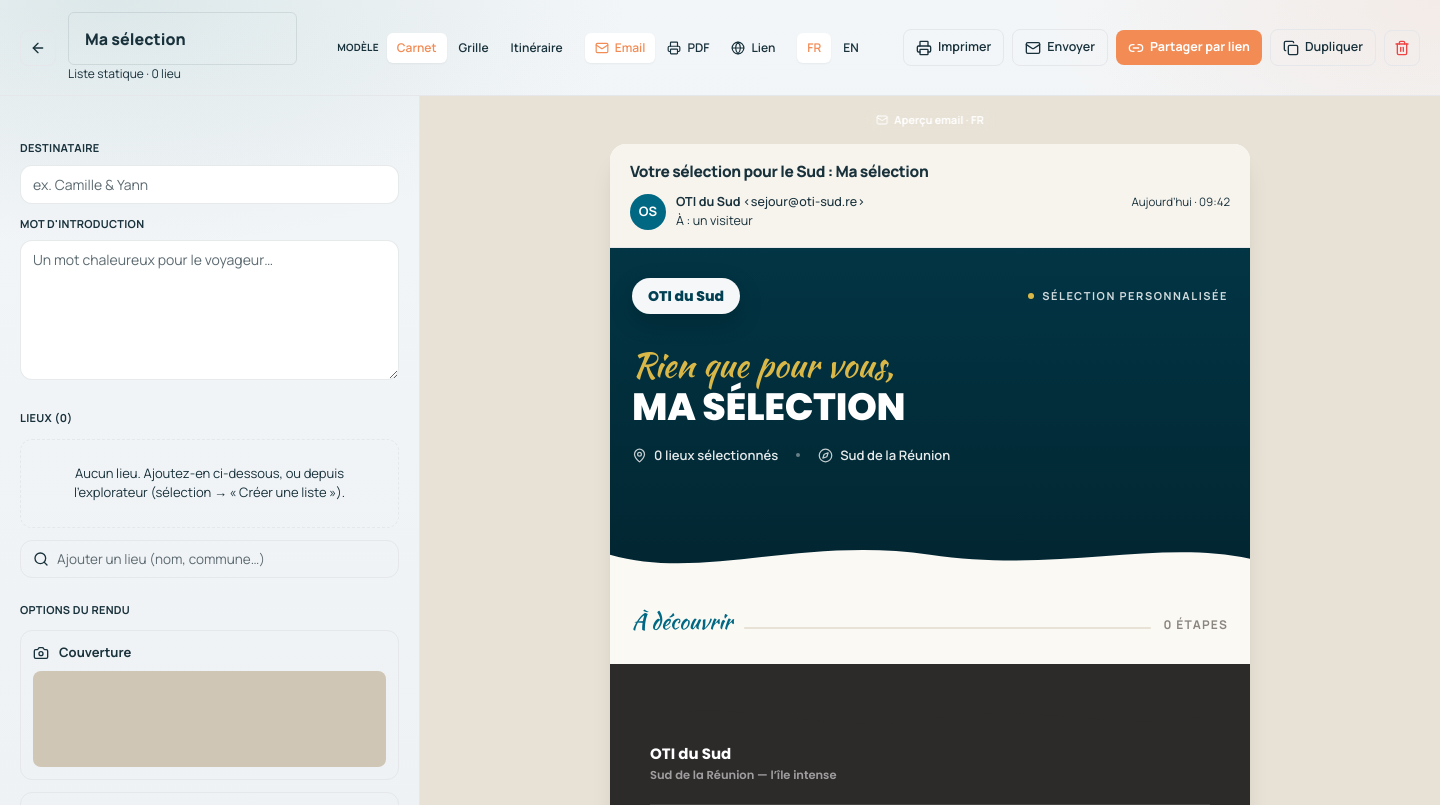
Test: ListComposeView — envoi et sauvegarde confirmée (MET-02) › quand le marquage réussit après un envoi SMTP accepté : avertissement absent
What coordinates should you click on to do the following:
click the button "Envoyer"
I would click on:
 (1060, 48)
Its box is [1012,29,1108,66].
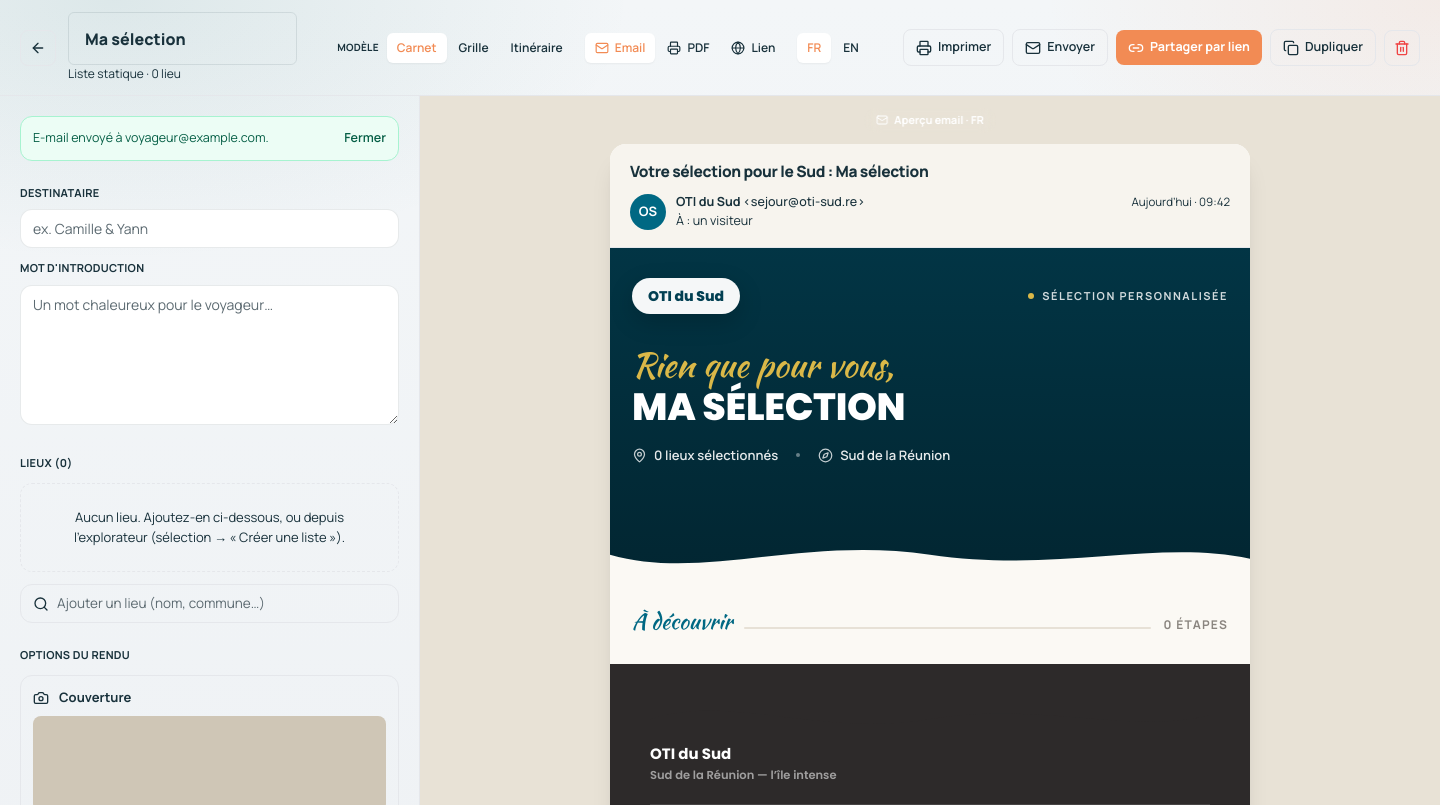
Expected: the message does not show "historique", [20,116,399,161]
Now the message shows "voyageur@example.com", box [33,129,269,146]
